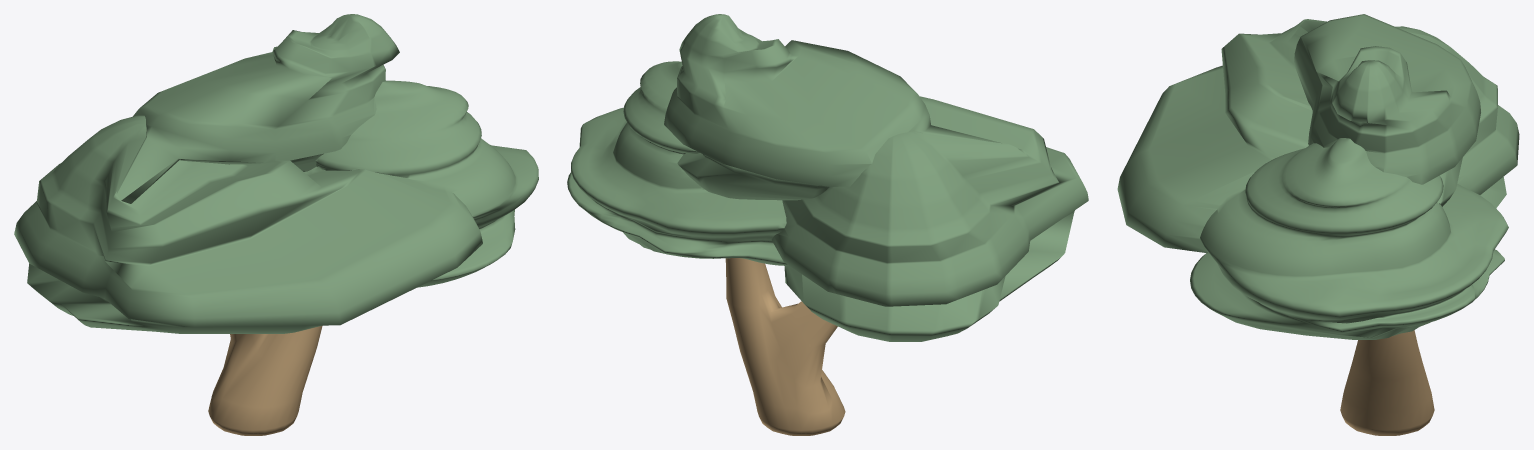
Rendered from Bush1.fbx.
3 renders of one model, left to right at view 1: azimuth 30°, elevation 25°; view 2: azimuth 150°, elevation 25°; view 3: azimuth 270°, elevation 25°, orthographic. The views are drawn at different scales.
Parts seen in each view (by area): view 1: pSphere19, pCylinder107; view 2: pSphere19, pCylinder107; view 3: pSphere19, pCylinder107.
Part boxes in pixels (box(x1,y1,x2,y2)): pSphere19: box(14, 14, 538, 333); pCylinder107: box(208, 325, 322, 435); pSphere19: box(567, 14, 1088, 341); pCylinder107: box(725, 258, 845, 435); pSphere19: box(1117, 14, 1519, 339); pCylinder107: box(1340, 330, 1434, 435).
Bounding box in the file's own units: 4.16 × 3.26 × 2.93.
